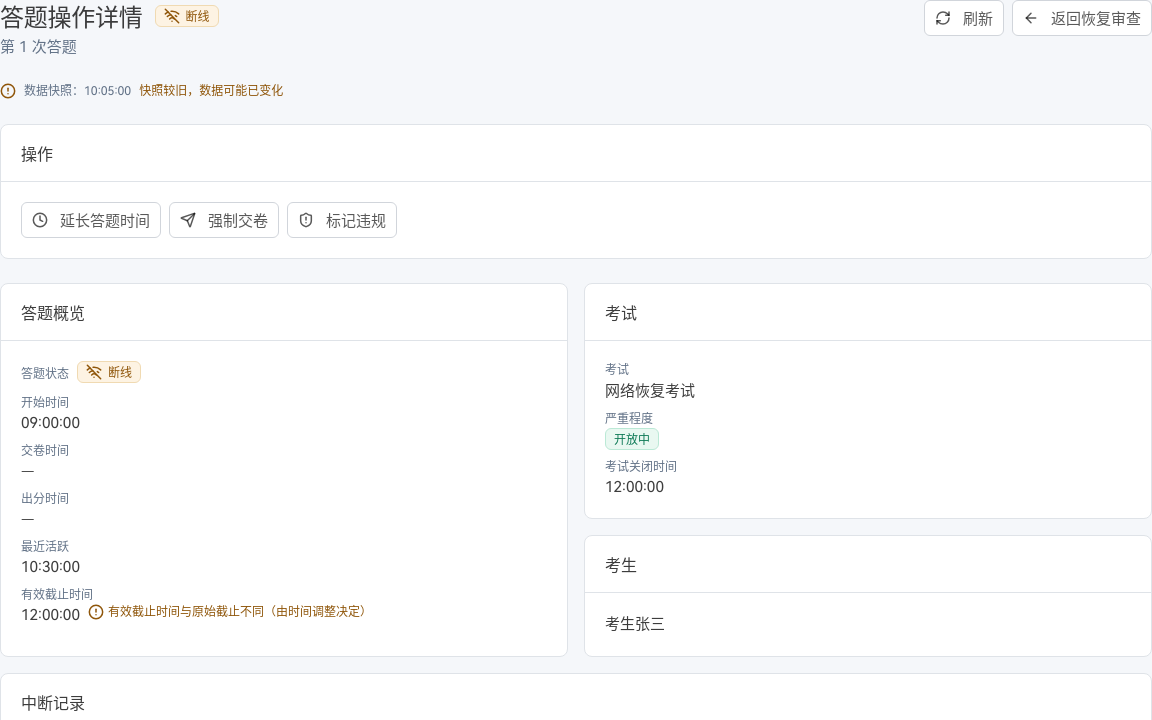
Test: RecoveryAttemptDetailPage › surfaces a definitive rejection and closes the dialog
This screenshot has width=1152, height=720.
Click the button "强制交卷" at (224, 220), box 169,202 -> 279,238
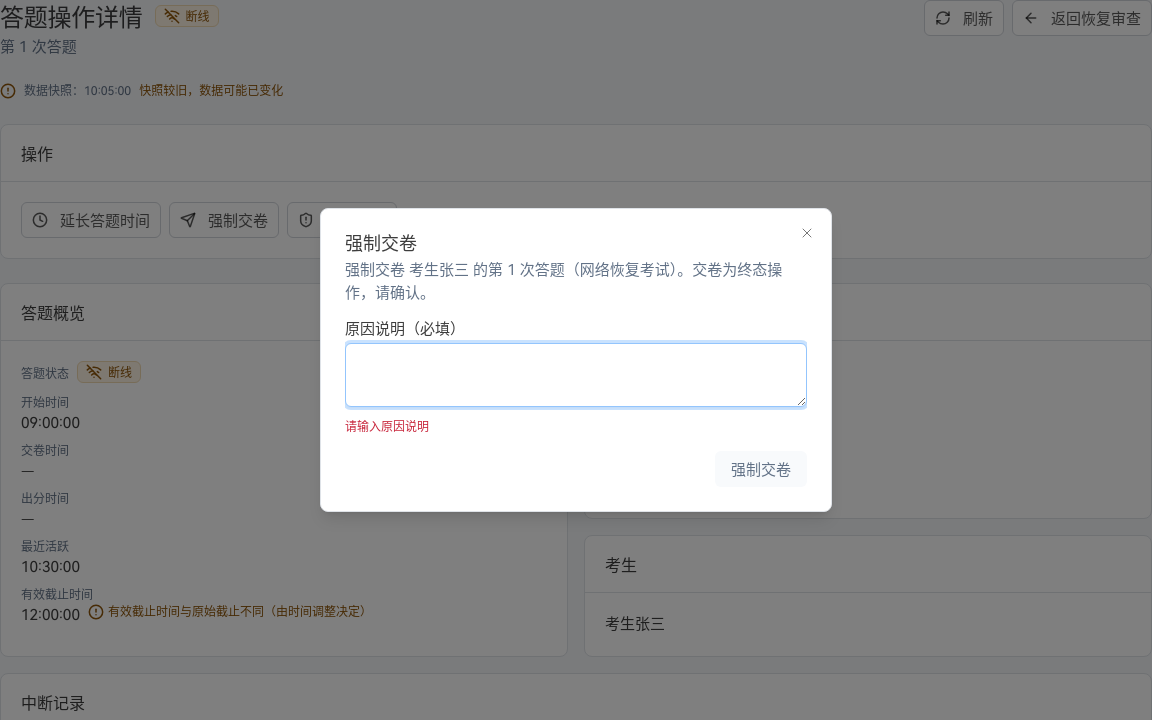
Type "考生无法继续" into the text box labelled "原因说明（必填）" at (576, 375), box 345,343 -> 807,407
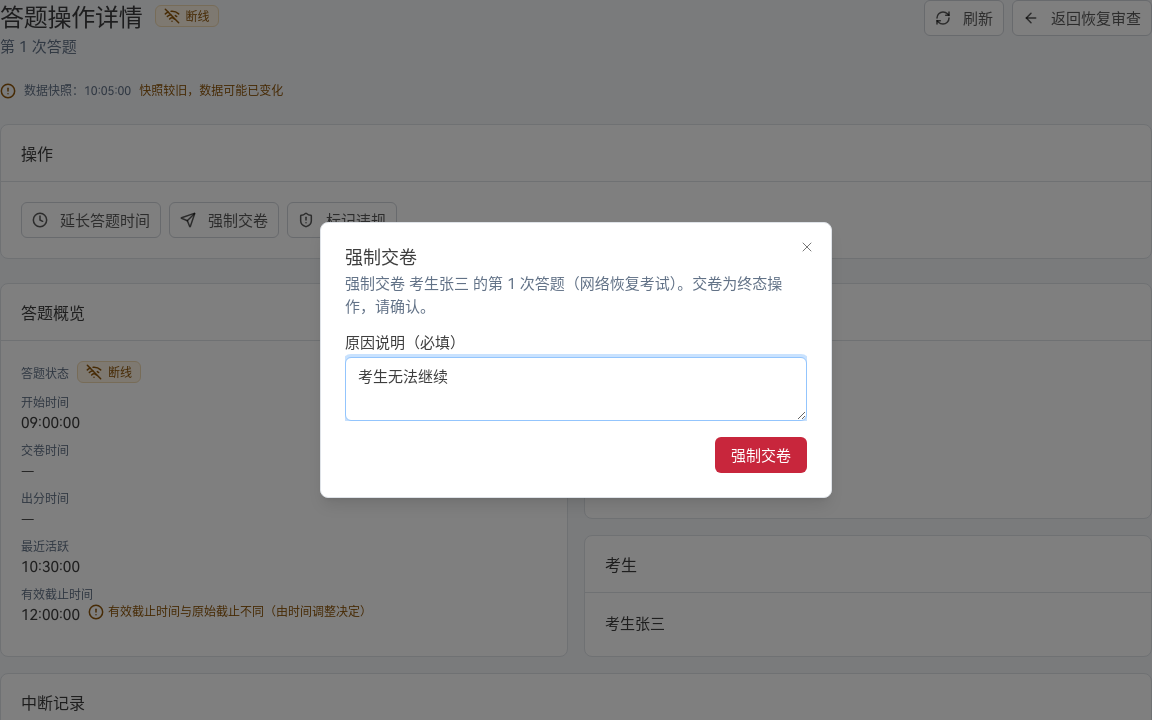
Click the button "强制交卷" at (761, 455), box 715,437 -> 807,473
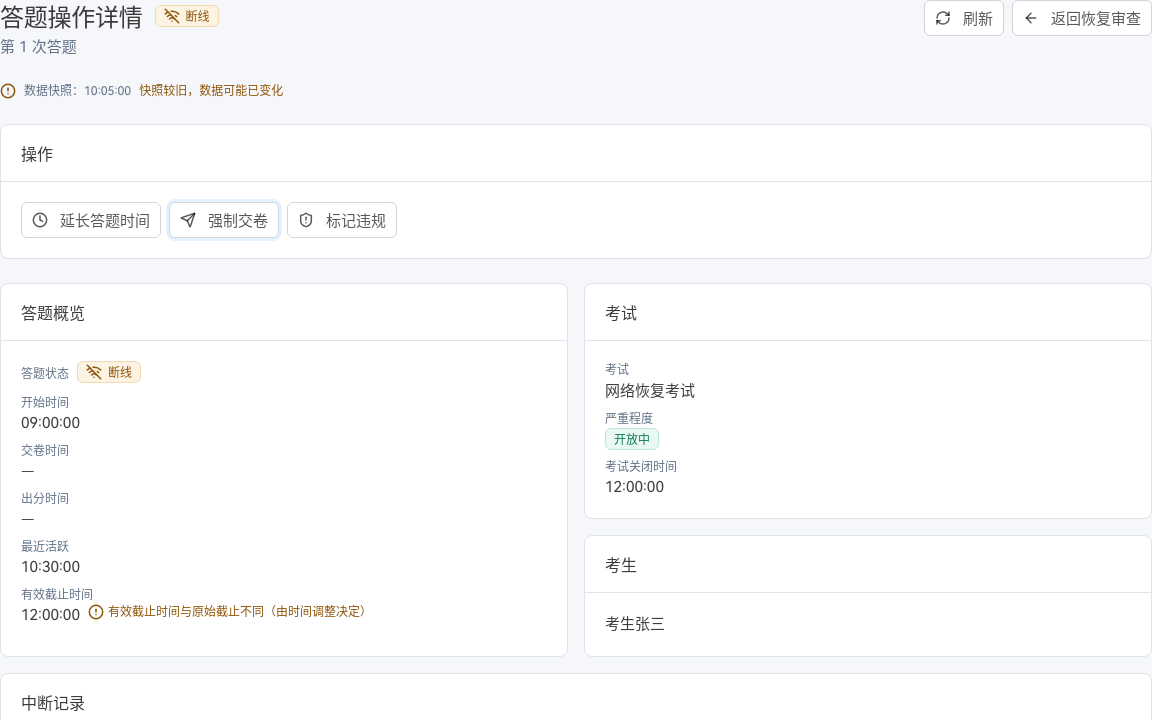
Expected: the text "原因说明（必填）" is gone
